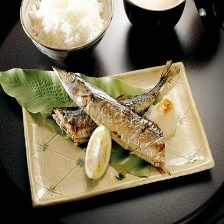rice: (22, 1, 114, 49)
